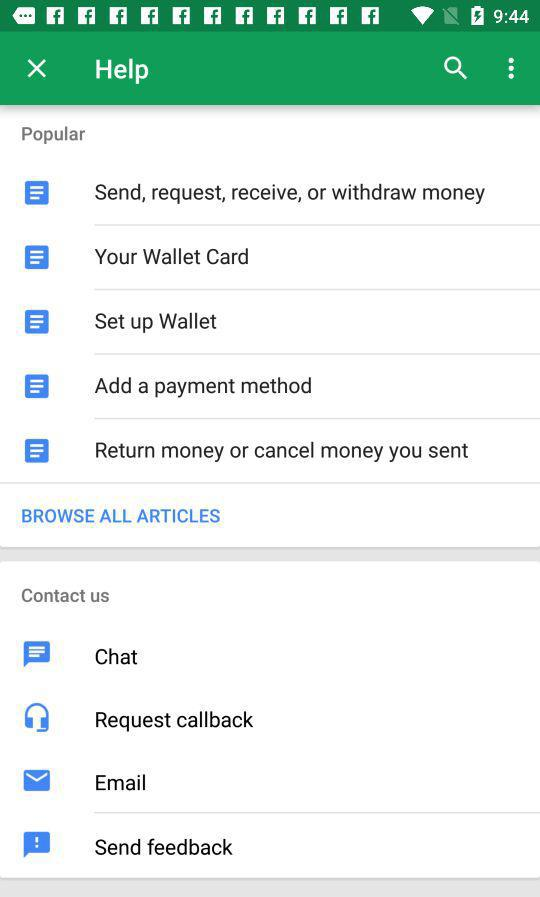Icon: (23, 830, 52, 858), (24, 641, 52, 668), (24, 769, 52, 792), (25, 439, 50, 464), (25, 374, 50, 399), (26, 310, 51, 335), (25, 245, 50, 270), (25, 181, 50, 206), (443, 57, 468, 81), (28, 59, 48, 79), (508, 58, 515, 81)
Image: (25, 702, 51, 733)
Text: (95, 184, 485, 205), (96, 442, 469, 463), (95, 377, 312, 399), (96, 710, 254, 733), (22, 508, 221, 524), (95, 248, 249, 266), (95, 312, 217, 334), (95, 838, 233, 856), (96, 59, 149, 86), (22, 588, 111, 603), (22, 126, 87, 146), (96, 773, 147, 791), (95, 648, 139, 666)
Toolbar: (1, 34, 540, 106)
UpperTaskBar: (1, 1, 540, 33)
